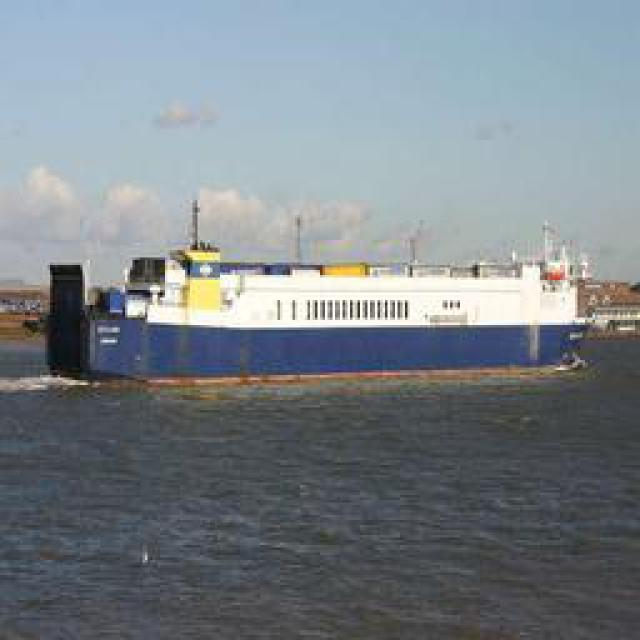Ship: (56, 247, 601, 377)
